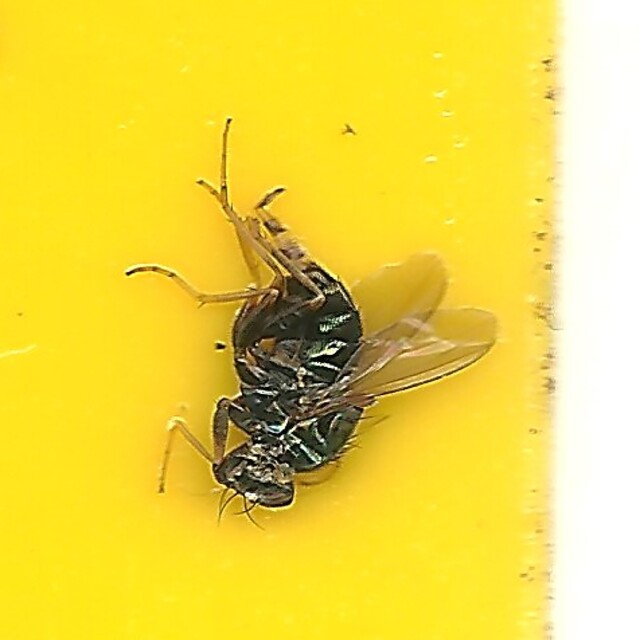Brachycera: (134, 118, 506, 522)
